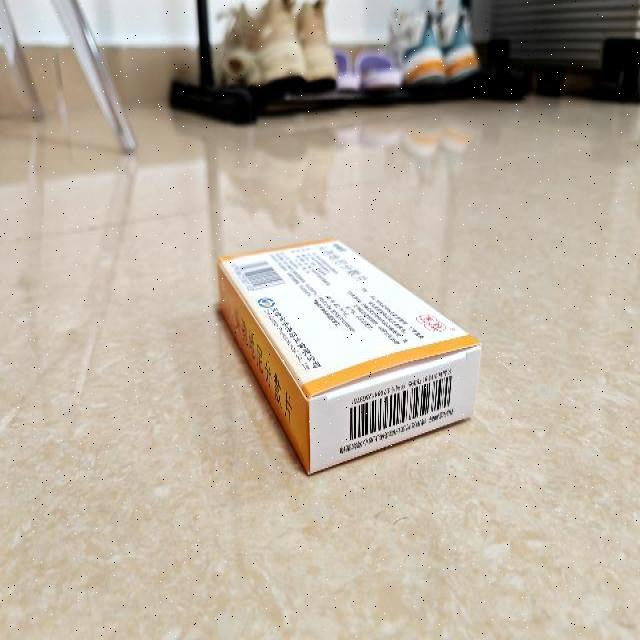box: (215, 236, 482, 479)
